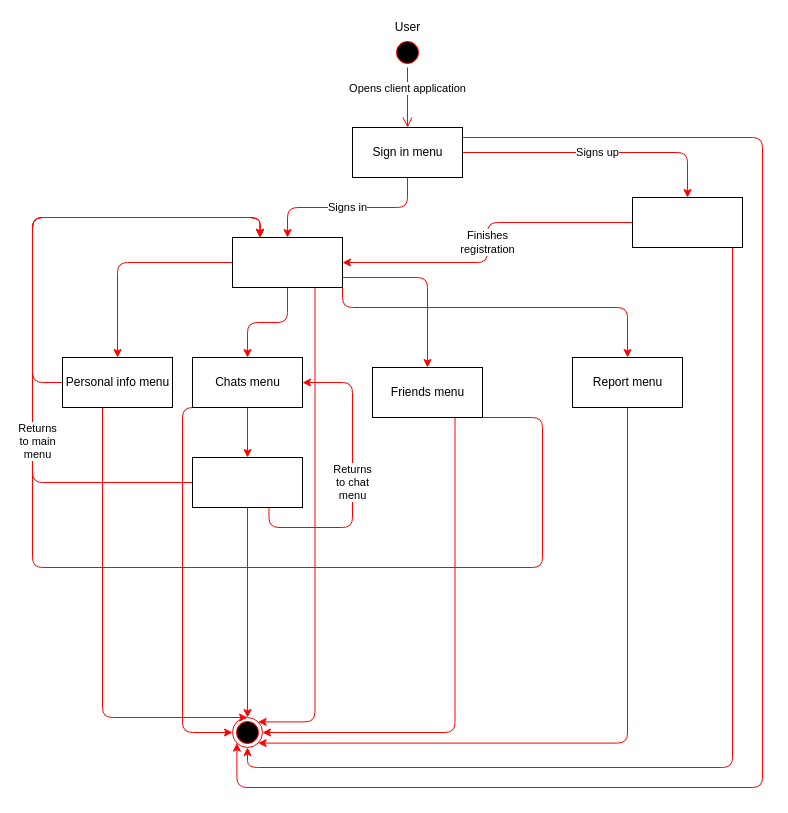
The diagram is 788 pixels wide and 813 high, and some of its shapes have lost their labels. Here are the shapes that lost their labels. From the top down, the centre of each, then its label:
At point 687,222: "Sign up menu".
At point 287,262: "Main menu".
At point 247,482: "Chat form".
